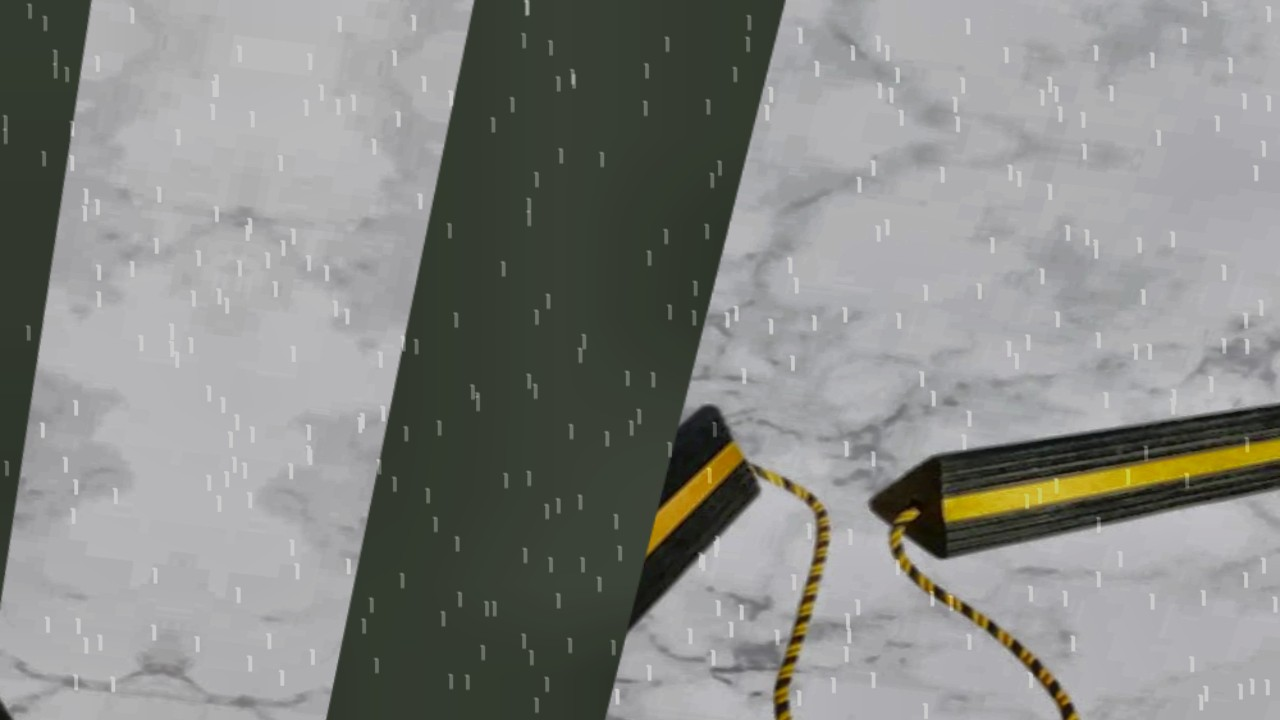chock: (232, 350, 785, 720), (853, 333, 1280, 604)
